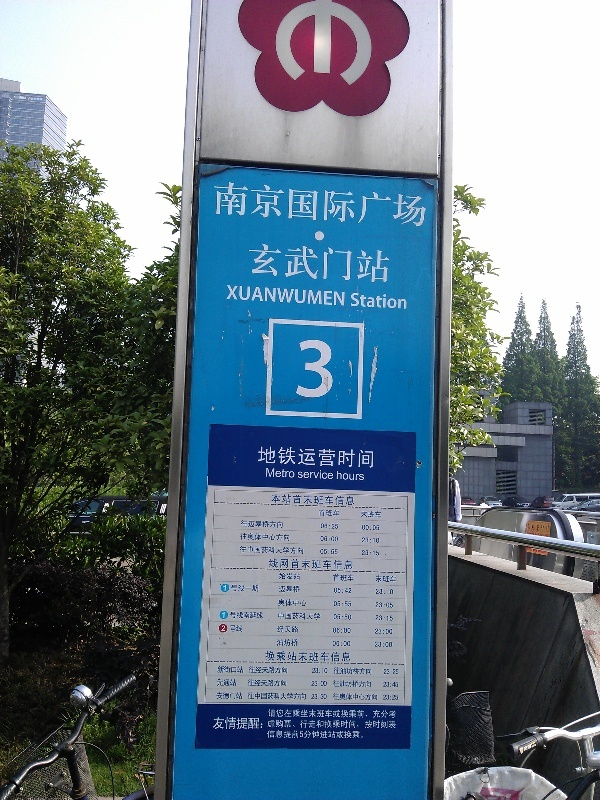text: (305, 339, 320, 400), (321, 339, 336, 400), (225, 180, 240, 230), (241, 180, 256, 230), (257, 180, 272, 230), (273, 180, 288, 230), (289, 180, 304, 230), (305, 180, 320, 230), (321, 180, 336, 230), (337, 180, 352, 230), (353, 180, 368, 230), (369, 180, 384, 230), (385, 180, 400, 230), (401, 180, 416, 230), (257, 242, 272, 284), (273, 242, 288, 284), (289, 242, 304, 284), (305, 242, 320, 284), (321, 242, 336, 284), (337, 242, 352, 284), (353, 242, 368, 284), (369, 242, 384, 284), (417, 180, 428, 230), (214, 180, 224, 230), (297, 339, 304, 400), (273, 445, 288, 470), (289, 445, 304, 470), (305, 445, 320, 470), (321, 445, 336, 470), (337, 445, 352, 470), (353, 445, 368, 470), (241, 284, 256, 308), (257, 284, 272, 308), (273, 284, 288, 308), (289, 284, 304, 308), (305, 284, 320, 308), (321, 284, 336, 308), (258, 445, 272, 470), (226, 284, 240, 308), (353, 292, 368, 312), (369, 292, 384, 312), (385, 292, 400, 312), (250, 242, 256, 284), (385, 242, 391, 284), (337, 284, 347, 308), (273, 493, 288, 507), (289, 493, 304, 507), (305, 493, 320, 507), (321, 493, 336, 507), (337, 493, 352, 507), (225, 717, 240, 730), (241, 717, 256, 730), (273, 558, 288, 570), (289, 558, 304, 570), (305, 558, 320, 570), (321, 558, 336, 570), (337, 558, 352, 570), (273, 651, 288, 663), (289, 651, 304, 663), (305, 651, 320, 663), (321, 651, 336, 663), (305, 469, 320, 481), (337, 651, 351, 663), (273, 468, 288, 479), (337, 471, 352, 482), (289, 545, 305, 555), (321, 469, 334, 481), (369, 445, 375, 470), (273, 709, 288, 719), (289, 709, 304, 719), (305, 709, 320, 719), (321, 709, 336, 719), (337, 709, 352, 719), (353, 709, 368, 719), (369, 709, 384, 719), (241, 545, 256, 555), (257, 545, 272, 555), (273, 545, 288, 555), (273, 719, 288, 729), (289, 719, 304, 729), (305, 719, 320, 729), (321, 719, 336, 729), (337, 719, 352, 729), (353, 719, 368, 729), (369, 719, 384, 729), (305, 612, 321, 621), (213, 717, 224, 730), (401, 292, 408, 312), (241, 520, 256, 529), (257, 520, 272, 529), (321, 509, 336, 518), (225, 584, 240, 593), (241, 584, 256, 593), (225, 611, 240, 620), (241, 611, 256, 620), (337, 667, 352, 676), (353, 667, 368, 676), (241, 533, 256, 542), (257, 533, 272, 542), (273, 533, 288, 542), (273, 730, 288, 739), (289, 730, 304, 739), (305, 730, 320, 739), (321, 730, 336, 739), (337, 730, 352, 739), (289, 612, 304, 621), (257, 666, 272, 675), (273, 666, 288, 675), (257, 679, 272, 688), (273, 679, 288, 688), (257, 692, 272, 701), (273, 692, 288, 701), (289, 692, 304, 701), (353, 471, 365, 482), (289, 599, 304, 607), (225, 625, 240, 633), (225, 666, 240, 674), (385, 668, 400, 676), (385, 709, 397, 719), (321, 548, 336, 556), (225, 692, 240, 700), (337, 680, 352, 688), (353, 680, 368, 688), (337, 693, 352, 701), (353, 693, 368, 701), (337, 574, 352, 582), (225, 678, 238, 687), (369, 510, 382, 519), (337, 587, 353, 594), (385, 719, 396, 729), (273, 520, 285, 529), (385, 575, 397, 584), (321, 523, 336, 530), (321, 536, 336, 543), (337, 601, 352, 608), (337, 614, 352, 621), (337, 627, 352, 634), (353, 730, 364, 739), (385, 694, 399, 701), (289, 573, 301, 581), (257, 717, 264, 730), (385, 682, 400, 688), (278, 612, 288, 621), (277, 639, 288, 647), (277, 626, 288, 634), (265, 651, 272, 663), (337, 641, 351, 647), (289, 586, 301, 593), (247, 679, 256, 688), (247, 692, 256, 701), (278, 573, 288, 581), (278, 599, 288, 607), (289, 639, 299, 647), (289, 626, 299, 634), (369, 525, 380, 532), (369, 537, 380, 544), (369, 550, 380, 557), (369, 693, 378, 701), (376, 575, 384, 584), (298, 469, 304, 481), (266, 468, 272, 479), (289, 468, 295, 479), (257, 611, 264, 620), (361, 510, 368, 519), (279, 586, 288, 593), (249, 666, 256, 675), (385, 588, 394, 595), (385, 602, 394, 609), (375, 628, 384, 635), (375, 641, 384, 648), (217, 666, 224, 674), (217, 692, 224, 700), (376, 588, 384, 595), (376, 602, 384, 609), (385, 628, 393, 635), (385, 641, 393, 648), (218, 678, 224, 687), (311, 681, 320, 687), (311, 694, 320, 700), (375, 615, 384, 621), (385, 615, 394, 621), (267, 719, 272, 729), (312, 668, 320, 674), (321, 668, 329, 674), (267, 730, 272, 739), (321, 681, 328, 687), (321, 694, 328, 700), (362, 525, 368, 532), (362, 537, 368, 544), (362, 550, 368, 557), (268, 709, 272, 719), (350, 292, 352, 312), (269, 558, 272, 570), (369, 667, 373, 676), (241, 666, 245, 674), (353, 493, 355, 507), (337, 509, 340, 518), (257, 584, 260, 593), (221, 625, 224, 633), (241, 625, 244, 633), (332, 641, 336, 647), (241, 692, 244, 700), (333, 680, 336, 688), (369, 680, 372, 688), (333, 693, 336, 701), (333, 574, 336, 582), (337, 523, 340, 530), (333, 627, 336, 634), (222, 611, 224, 620), (334, 667, 336, 676), (289, 533, 291, 542), (305, 692, 307, 701), (305, 599, 307, 607), (271, 493, 272, 507), (334, 587, 336, 594), (337, 536, 339, 543), (334, 601, 336, 608), (334, 614, 336, 621), (353, 558, 354, 570), (319, 509, 320, 518), (223, 584, 224, 593), (383, 668, 384, 676), (337, 548, 338, 556), (353, 574, 354, 582), (383, 694, 384, 701), (383, 682, 384, 688)
